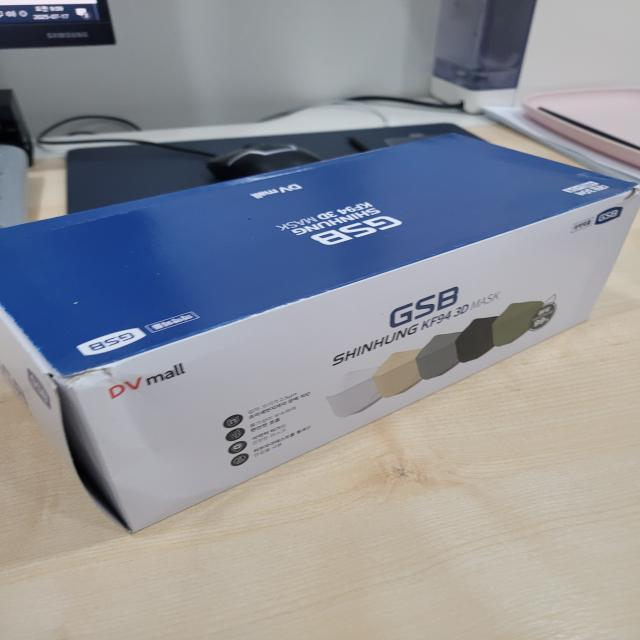mask: (0, 125, 640, 552)
